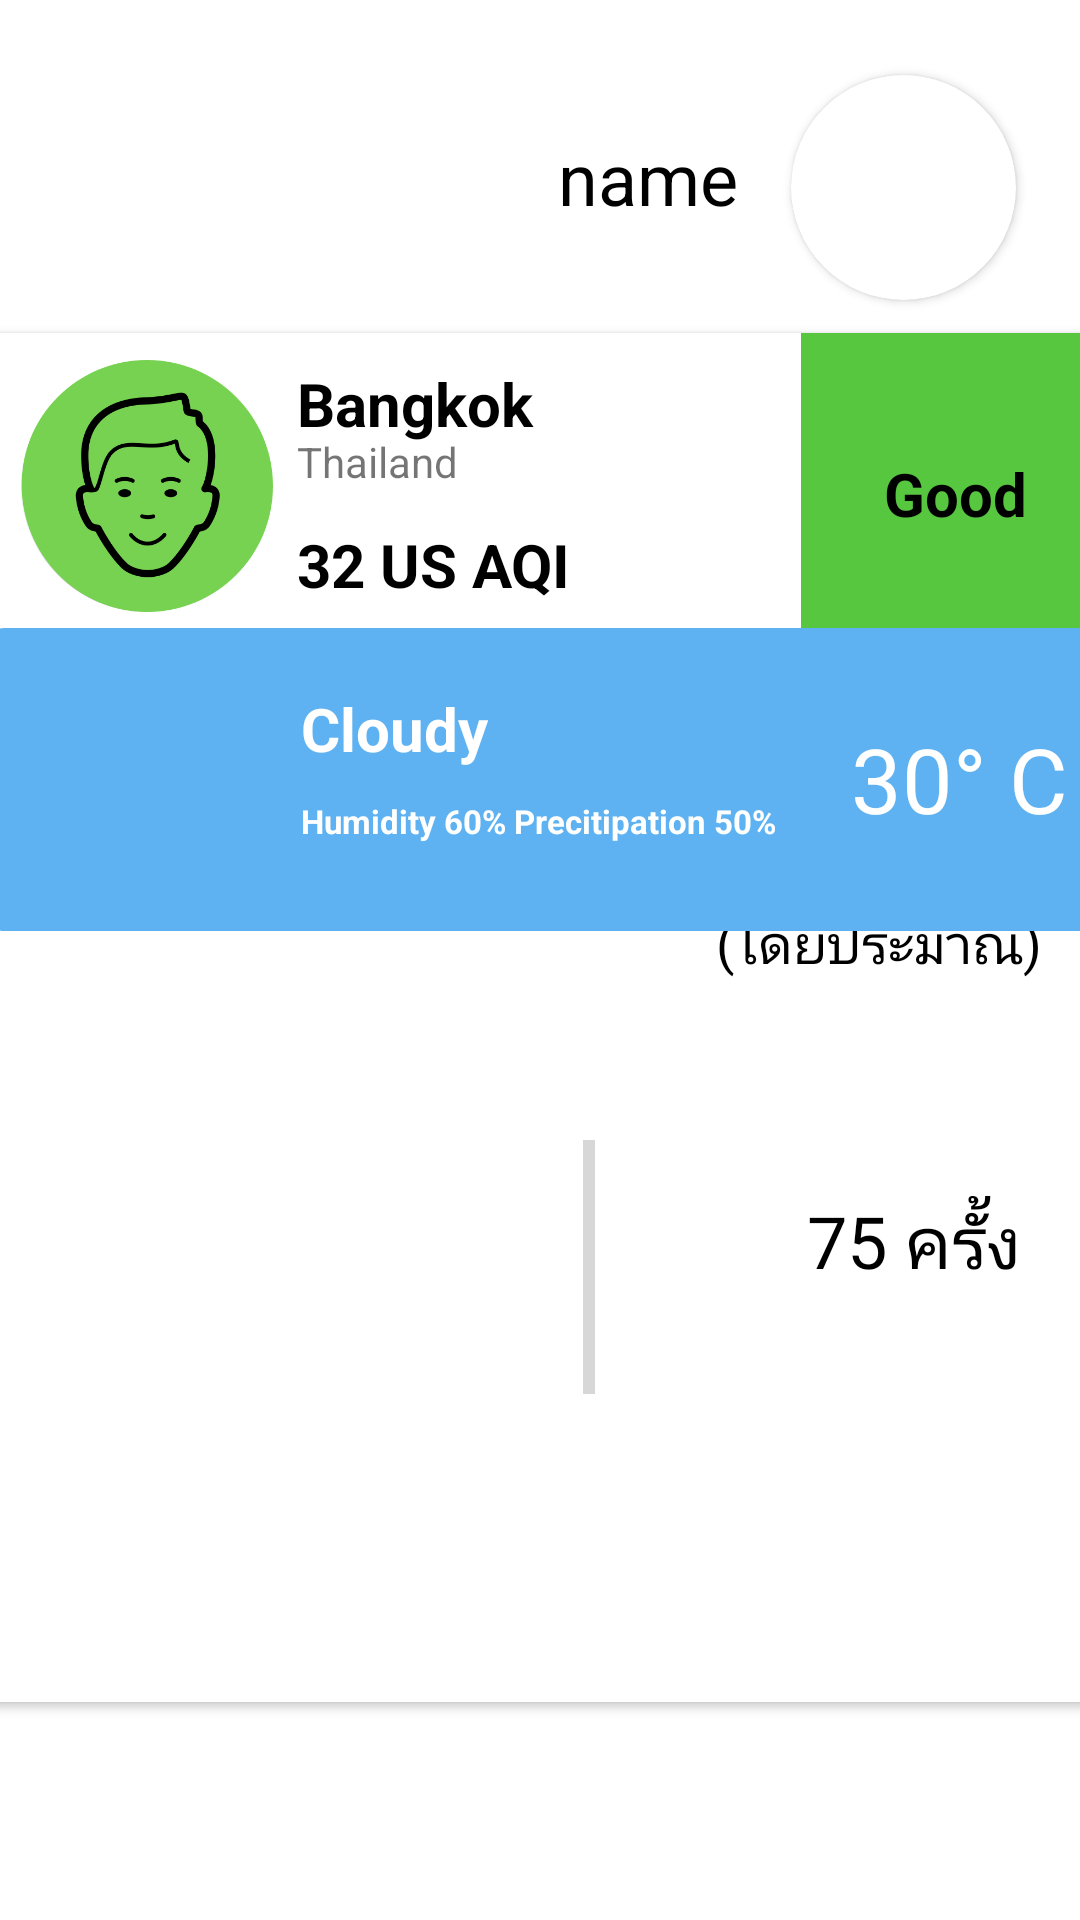

Icon click points for this 1080w x 1920h phone screenshot, format (x,y):
face: (147,486)
